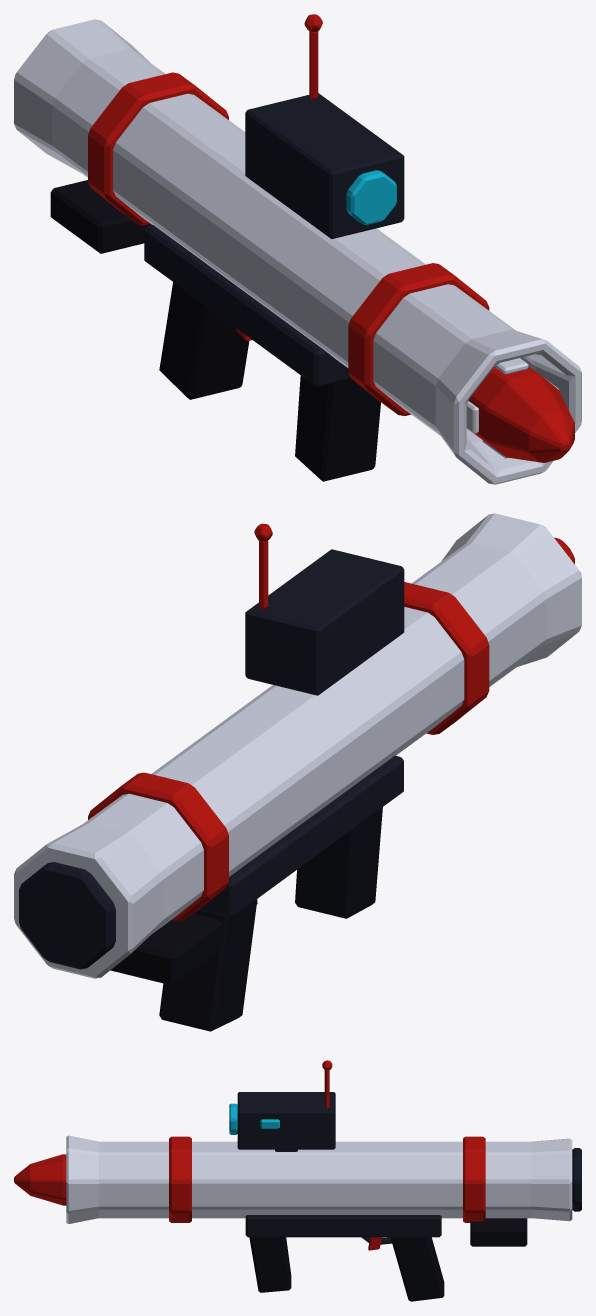
File: myw_missilelauncher.obj
3 views of the same model, one above another, from view 1: azimuth 30°, elevation 25°; view 2: azimuth 150°, elevation 25°; view 3: azimuth 270°, elevation 25° (orthographic). The views are drawn at different scales.
Visible parts, largest first — view 1: Tube, Grips, Sight, Missile; view 2: Tube, Grips, Sight; view 3: Tube, Grips, Sight, Missile.
Boxes of the visible parts, <box> form: Tube: <box>14,19,581,484</box>; Grips: <box>50,180,380,481</box>; Sight: <box>245,14,404,238</box>; Missile: <box>466,358,574,462</box>; Tube: <box>14,513,581,978</box>; Grips: <box>110,755,403,1031</box>; Sight: <box>245,523,404,695</box>; Tube: <box>66,1135,581,1223</box>; Grips: <box>245,1215,527,1301</box>; Sight: <box>229,1060,335,1151</box>; Missile: <box>14,1154,66,1205</box>.
Bounding box in the file's own units: 0.5119 × 1.63 × 3.48.
